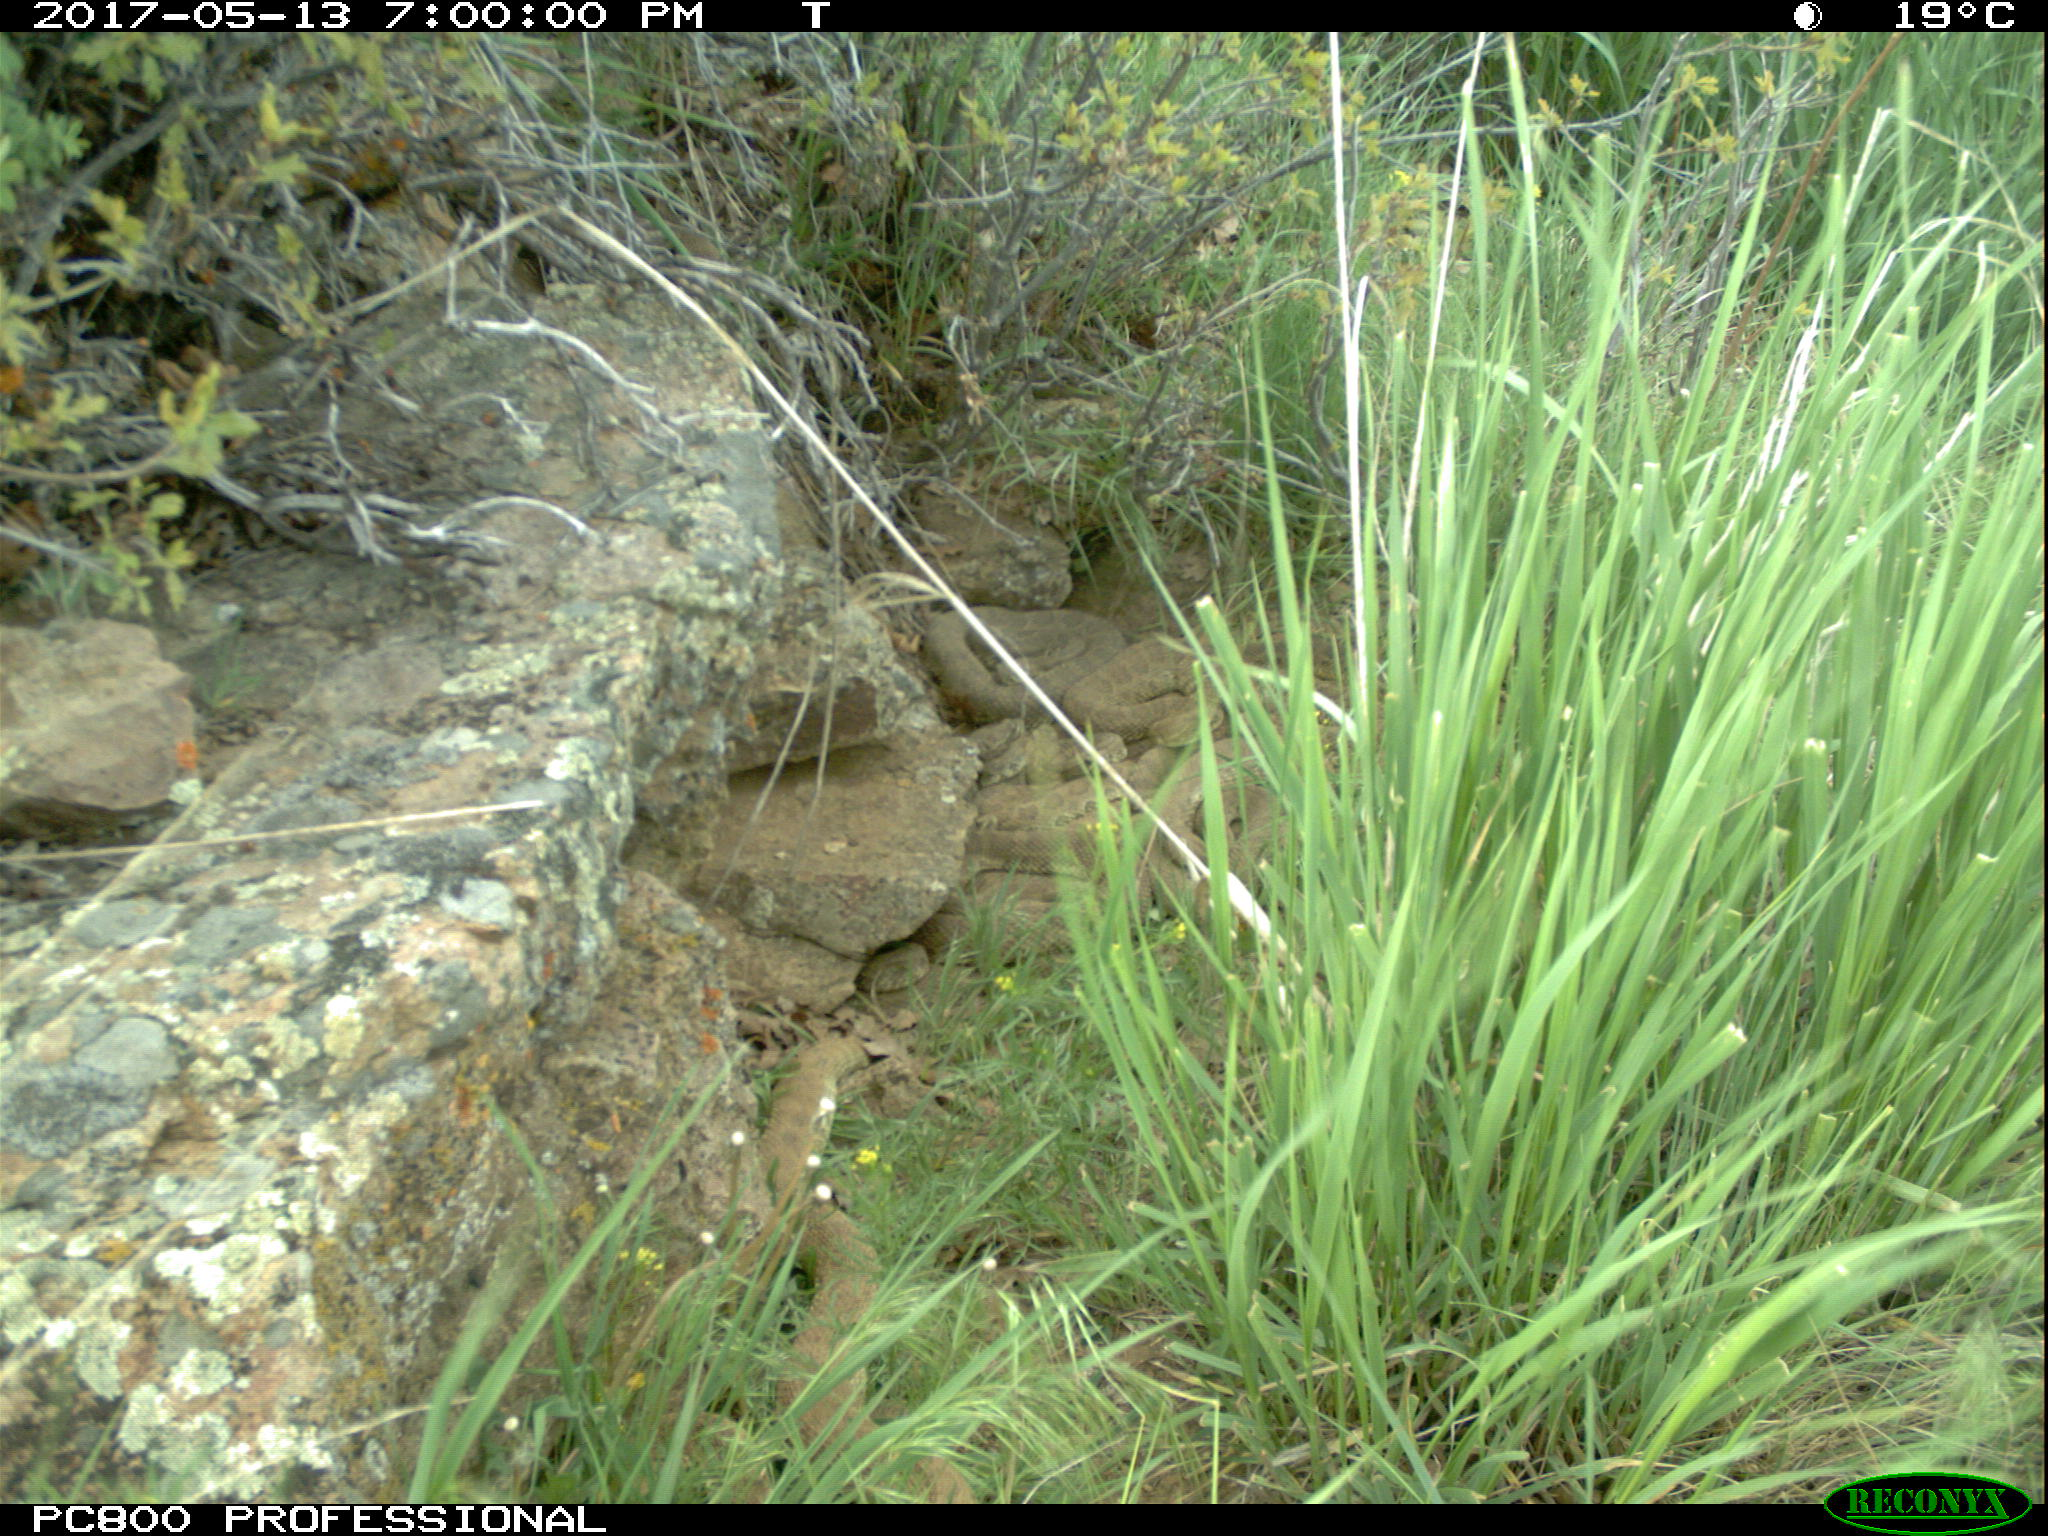snake: (747, 1031, 880, 1463), (864, 895, 1093, 995), (930, 600, 1126, 716), (1151, 778, 1288, 926), (963, 778, 1142, 884), (1076, 632, 1226, 749), (980, 720, 1140, 778)
